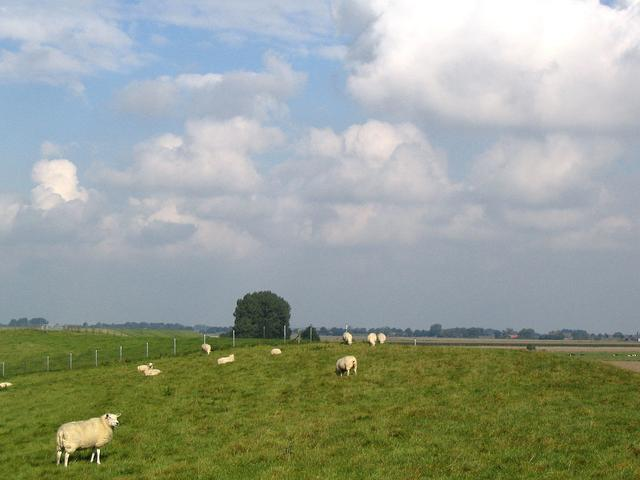sheep: (30, 403, 181, 467)
